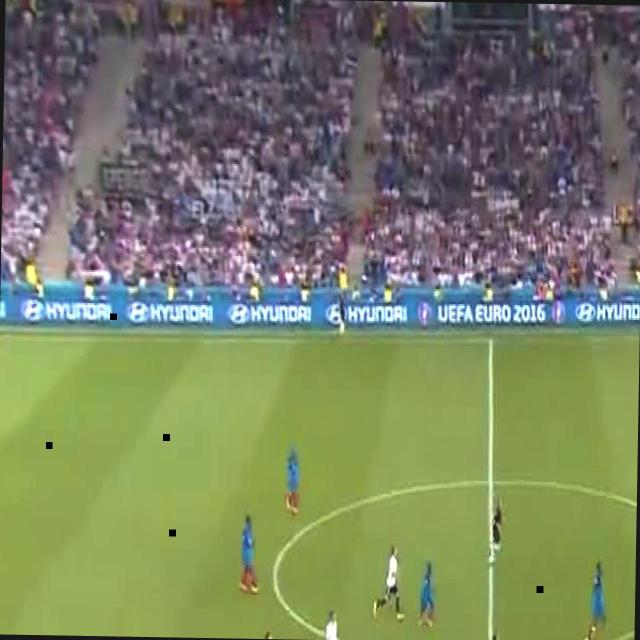player-white: (373, 544, 406, 622), (583, 558, 607, 640), (238, 514, 259, 594), (417, 562, 437, 628), (285, 444, 299, 520), (490, 496, 503, 562), (324, 605, 340, 640), (338, 290, 346, 336), (474, 631, 503, 640), (254, 629, 278, 639)
